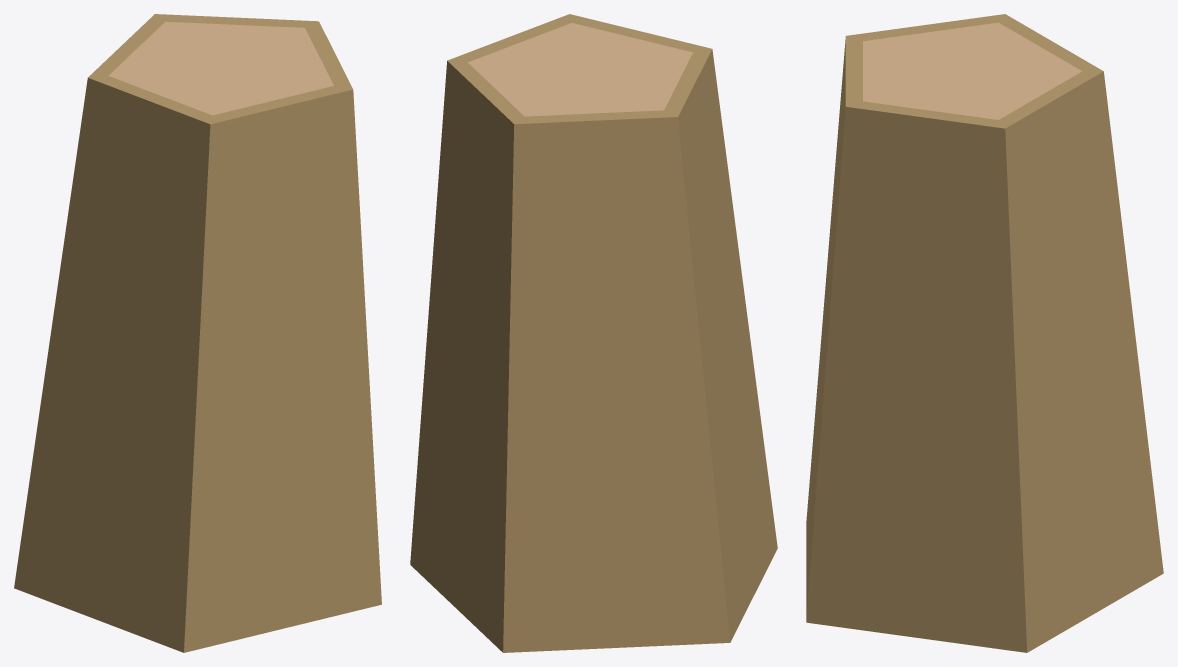
File: Acacia_Stump_05.fbx
3 views of the same model, side by side, from view 1: azimuth 30°, elevation 25°; view 2: azimuth 150°, elevation 25°; view 3: azimuth 270°, elevation 25° (orthographic).
Parts seen in each view (by area): view 1: Acacia_Stump_05; view 2: Acacia_Stump_05; view 3: Acacia_Stump_05.
Boxes of the visible parts, x1,y1,x2,y2 form: Acacia_Stump_05: (14, 14, 381, 652); Acacia_Stump_05: (410, 14, 777, 652); Acacia_Stump_05: (806, 14, 1163, 652).
Bounding box in the file's own units: 41.52 × 62.29 × 39.48.
